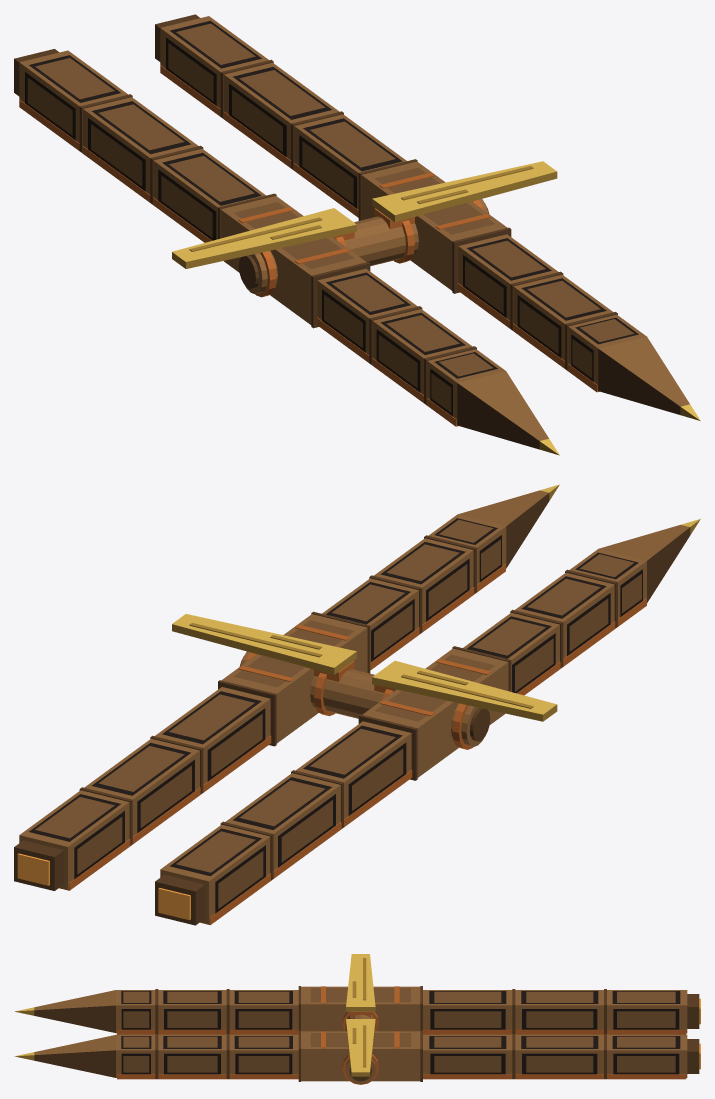
The model's file is nave_cafe.obj.
The picture shows the model from 3 angles, top to bottom: view 1: azimuth 30°, elevation 25°; view 2: azimuth 150°, elevation 25°; view 3: azimuth 270°, elevation 25°; orthographic projection. The views are drawn at different scales.
Visible parts, largest first — view 1: NaveCafe; view 2: NaveCafe; view 3: NaveCafe.
Boxes of the visible parts, left/top/right/bottom form: NaveCafe: left=14, top=14, right=700, bottom=455; NaveCafe: left=14, top=484, right=700, bottom=925; NaveCafe: left=14, top=954, right=700, bottom=1084.
Bounding box in the file's own units: 27.4 × 4.13 × 67.35.
